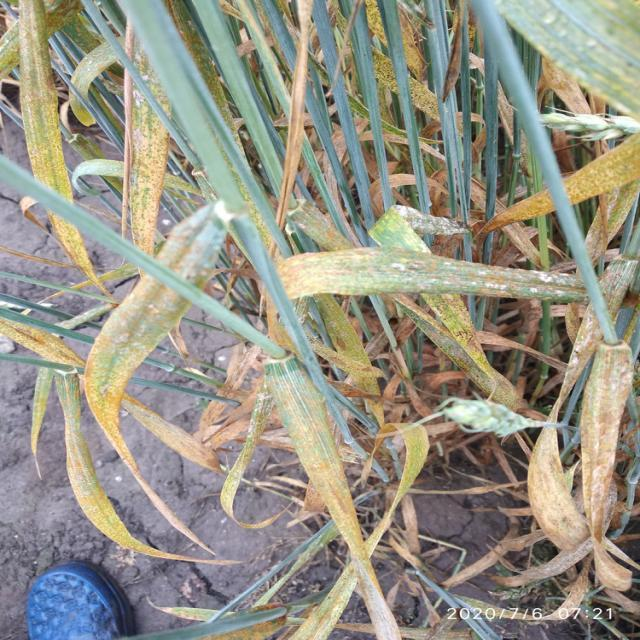wheat-powdery-mildew: (285, 249, 598, 305), (398, 206, 468, 234)
